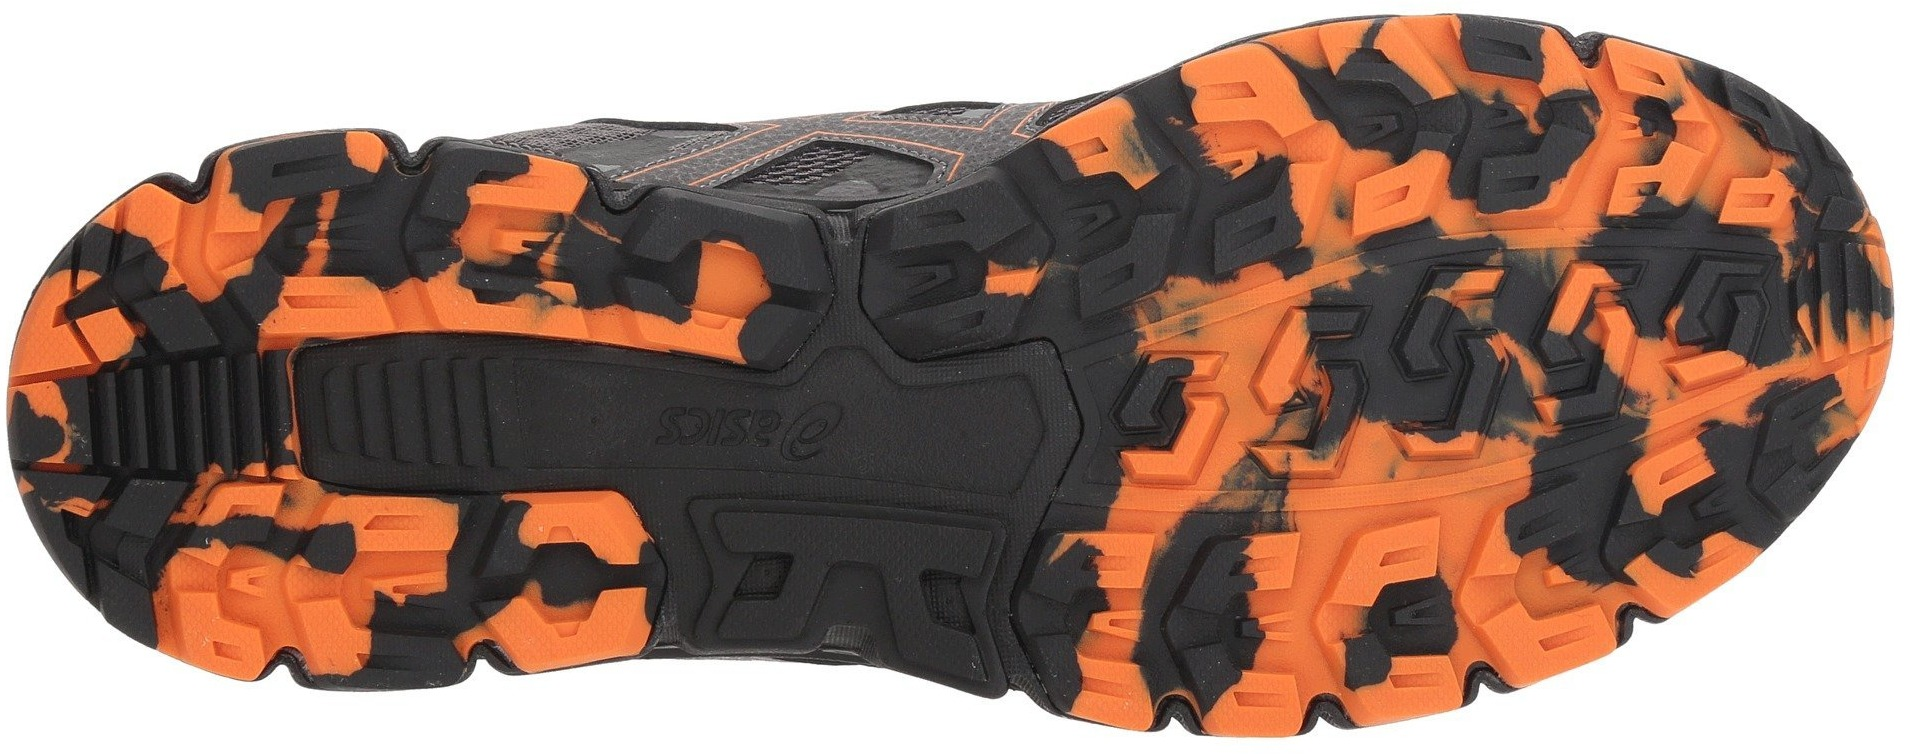quad: (362, 340, 525, 477), (82, 362, 224, 476)
text: (658, 387, 742, 476)
